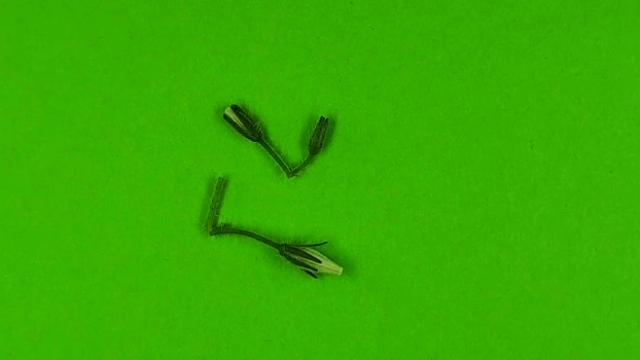Flower Bud: (279, 243, 343, 279), (222, 104, 262, 141), (307, 116, 331, 156)
